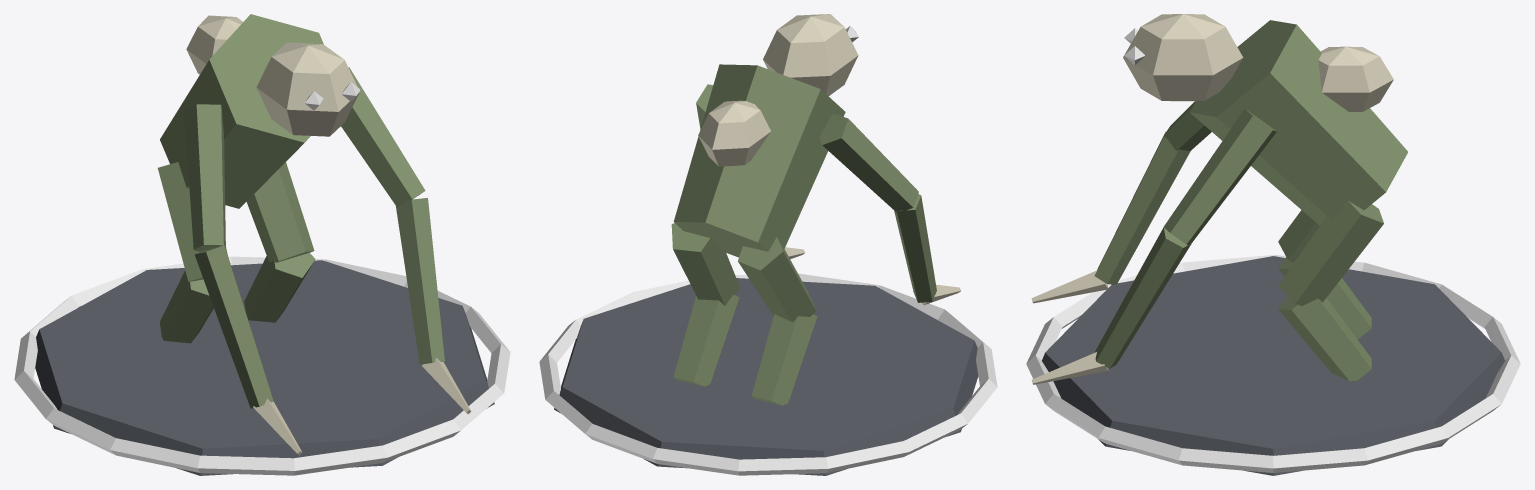
Rendered from ripper.fbx.
3 views of the same model, side by side, from view 1: azimuth 30°, elevation 25°; view 2: azimuth 150°, elevation 25°; view 3: azimuth 270°, elevation 25° (orthographic). The views are drawn at different scales.
Visible parts, largest first — view 1: ripper; view 2: ripper; view 3: ripper.
Part boxes in pixels (<box>): ripper: <box>14,14,510,475</box>; ripper: <box>539,14,997,475</box>; ripper: <box>1026,14,1520,475</box>.
Size of the model in its own units: 1.56 by 1.26 by 1.56.
Materials: 2 (1 with a texture image).
